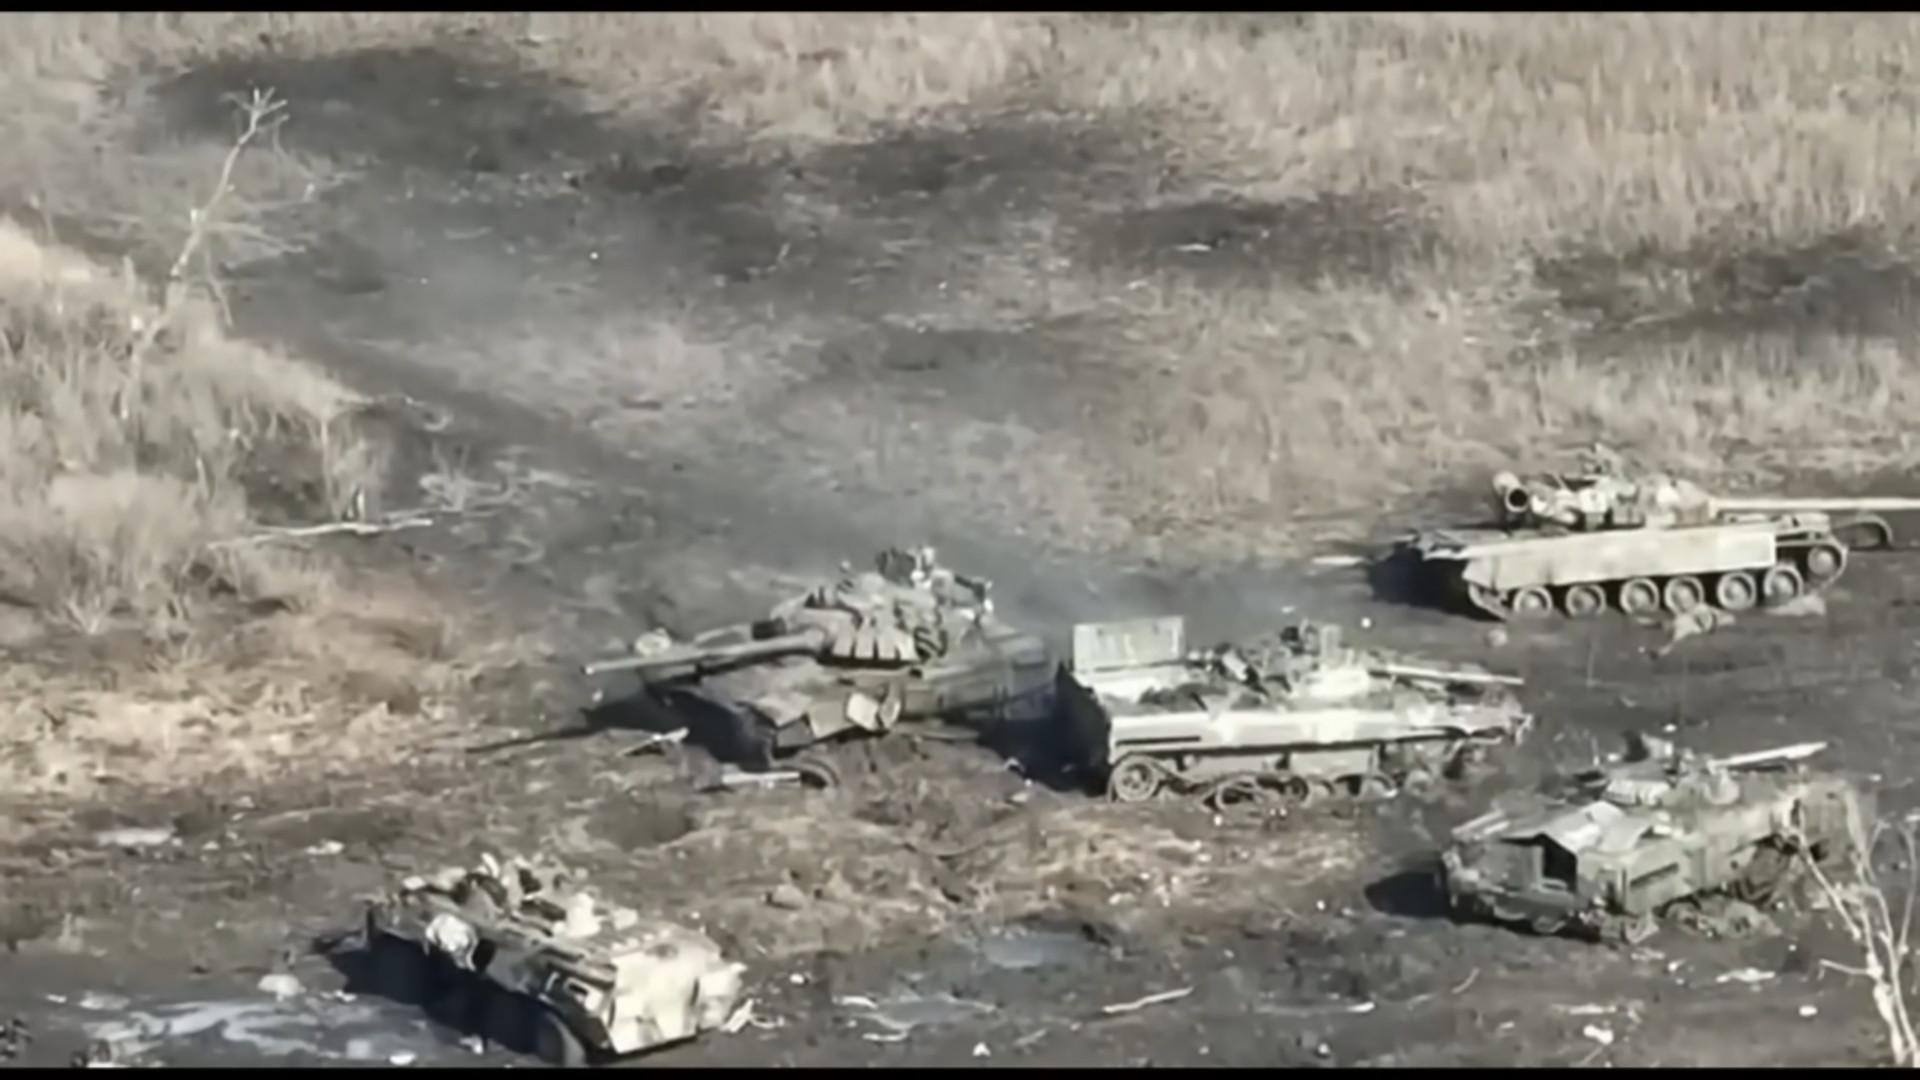tank: (580, 546, 1060, 785), (1058, 615, 1535, 807), (1370, 469, 1919, 626), (1437, 735, 1828, 934)
